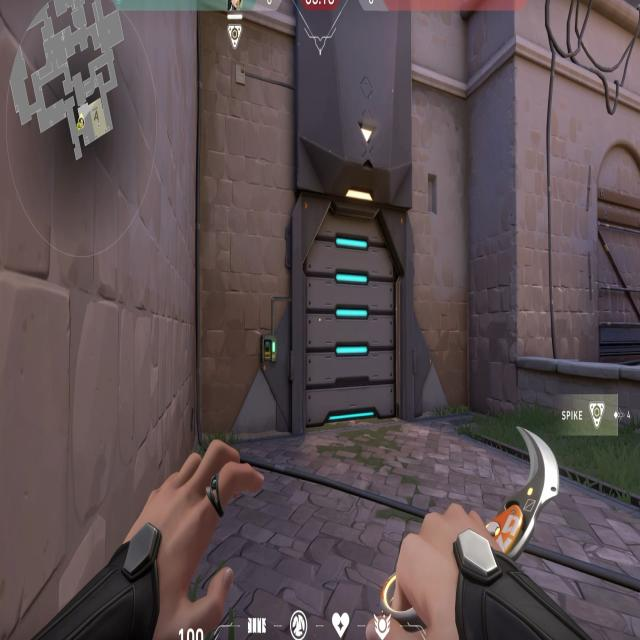A_Door: (299, 198, 405, 415)
